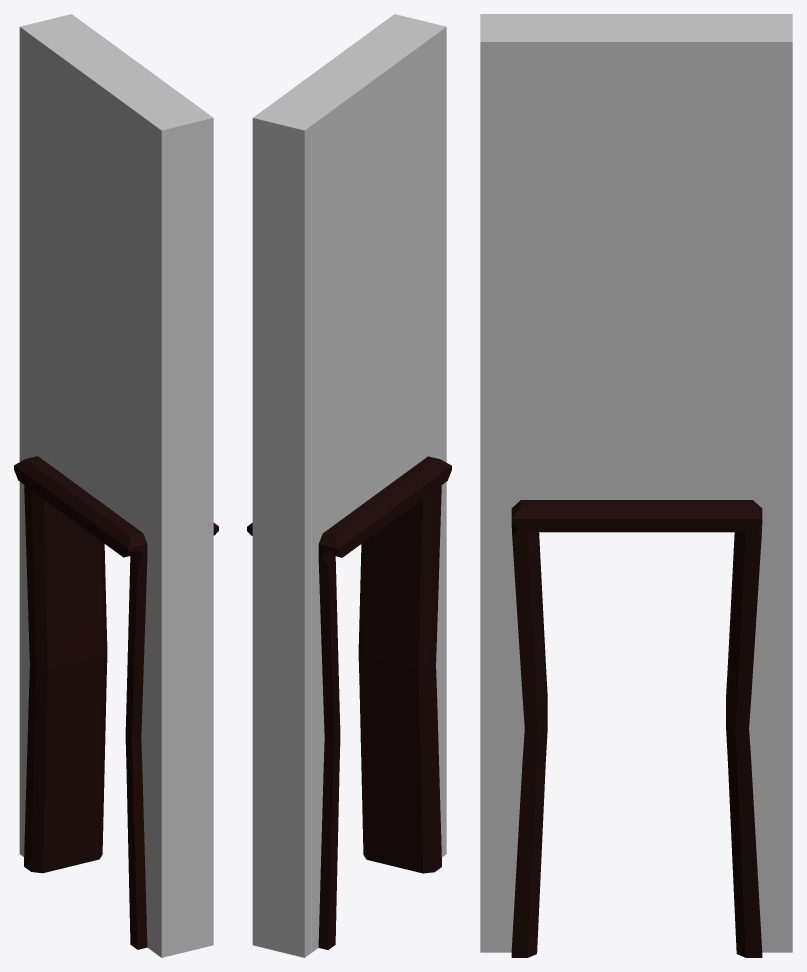
The model's file is Porte 1.obj.
3 views of the same model, side by side, from view 1: azimuth 30°, elevation 25°; view 2: azimuth 150°, elevation 25°; view 3: azimuth 270°, elevation 25° (orthographic). The views are drawn at different scales.
Parts seen in each view (by area): view 1: Cube; view 2: Cube; view 3: Cube.
Boxes of the visible parts, left/top/right/bottom form: Cube: left=14, top=14, right=218, bottom=957; Cube: left=247, top=14, right=451, bottom=957; Cube: left=480, top=14, right=792, bottom=957.
Size of the model in its own units: 0.9263 by 8.04 by 2.5.
